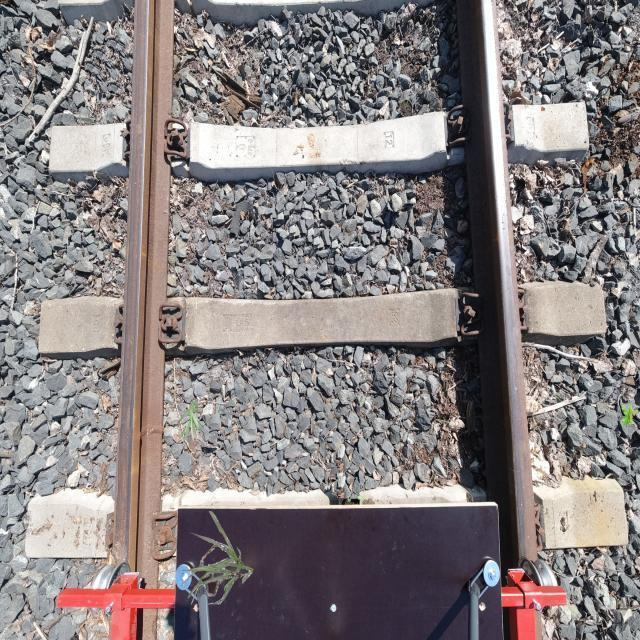Plant: (181, 511, 254, 604), (178, 401, 204, 443), (621, 403, 638, 427)
